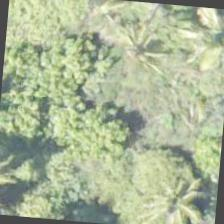Kelapa_Sawit: (80, 0, 178, 90), (177, 6, 223, 90)
